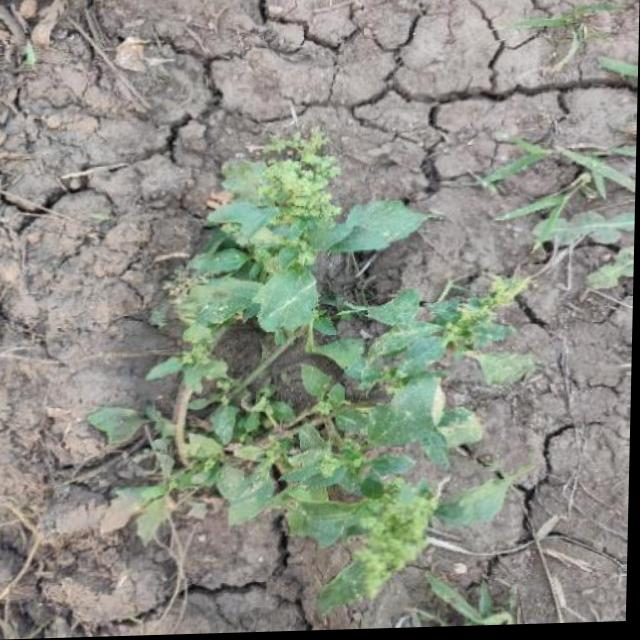weed: (137, 129, 544, 594)
